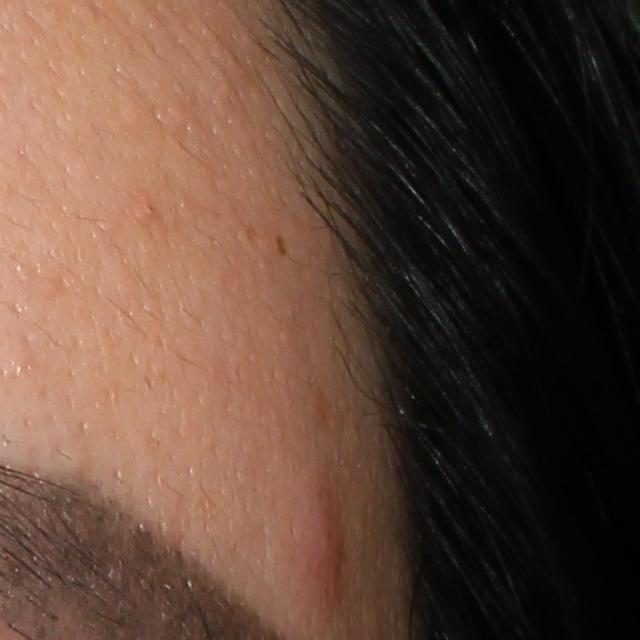nevus: (272, 230, 291, 258)
papule: (294, 507, 345, 581)
